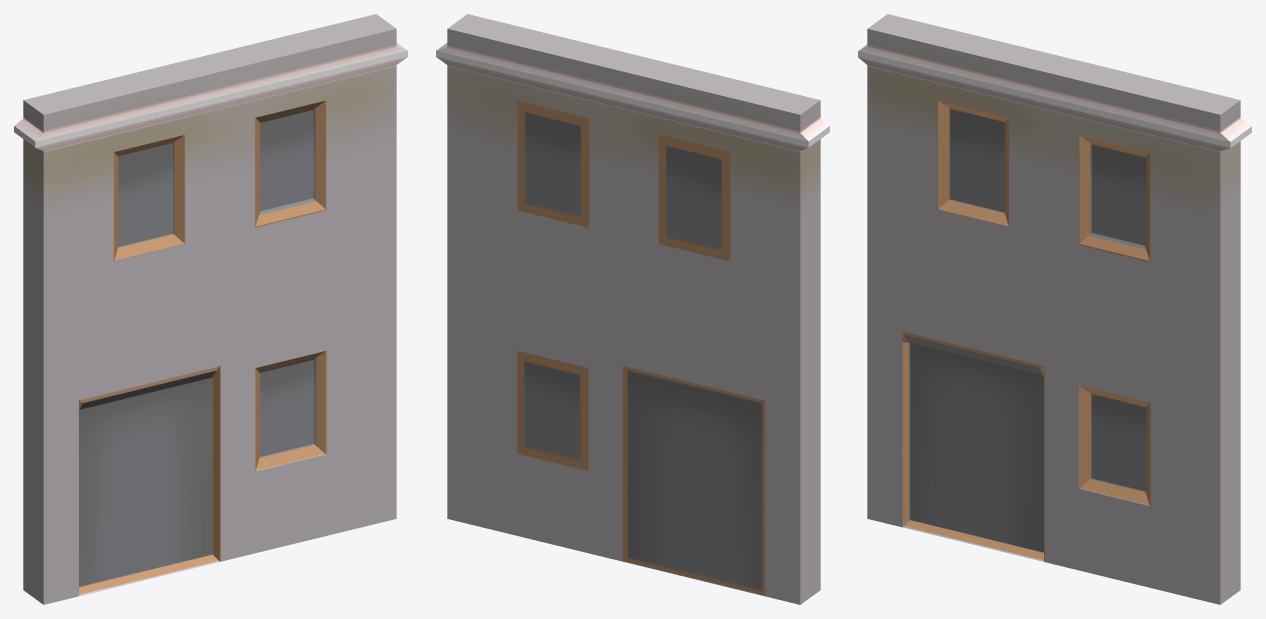
File: sobrado3.fbx
The picture shows the model from 3 angles, left to right: view 1: azimuth 30°, elevation 25°; view 2: azimuth 150°, elevation 25°; view 3: azimuth 330°, elevation 25°; orthographic projection.
Parts seen in each view (by area): view 1: Cube.021; view 2: Cube.021; view 3: Cube.021.
Part boxes in pixels (x1=…): Cube.021: x1=14, y1=14, x2=407, y2=604; Cube.021: x1=436, y1=14, x2=829, y2=604; Cube.021: x1=858, y1=14, x2=1251, y2=604.
Size of the model in its own units: 211 by 265 by 20.9.
1 material, 1 textured.
